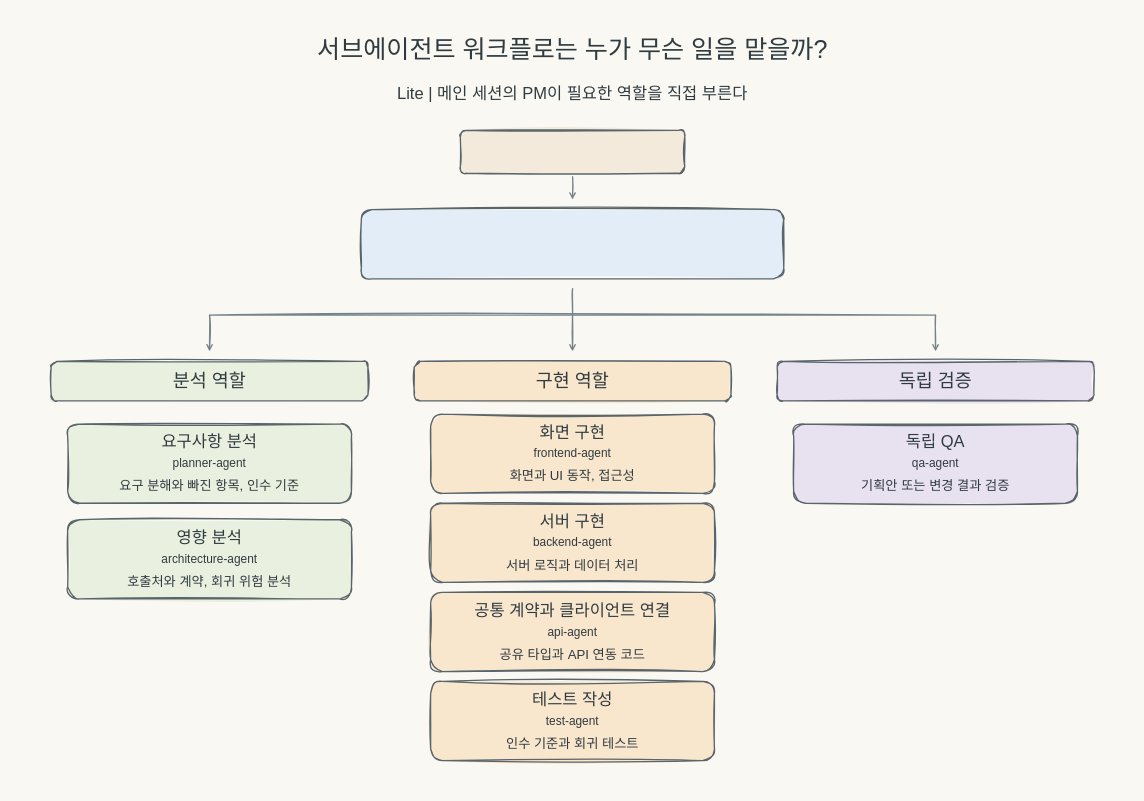
This 1144x801 diagram has some shape labels left out. Each missing label, with the centre of its shape:
PM = 메인 세션 요청 분류와 확인, 검사 실행, 최종 보고: the point at 572,244
사용자 /subagent-workflow:run 요청: the point at 572,151
